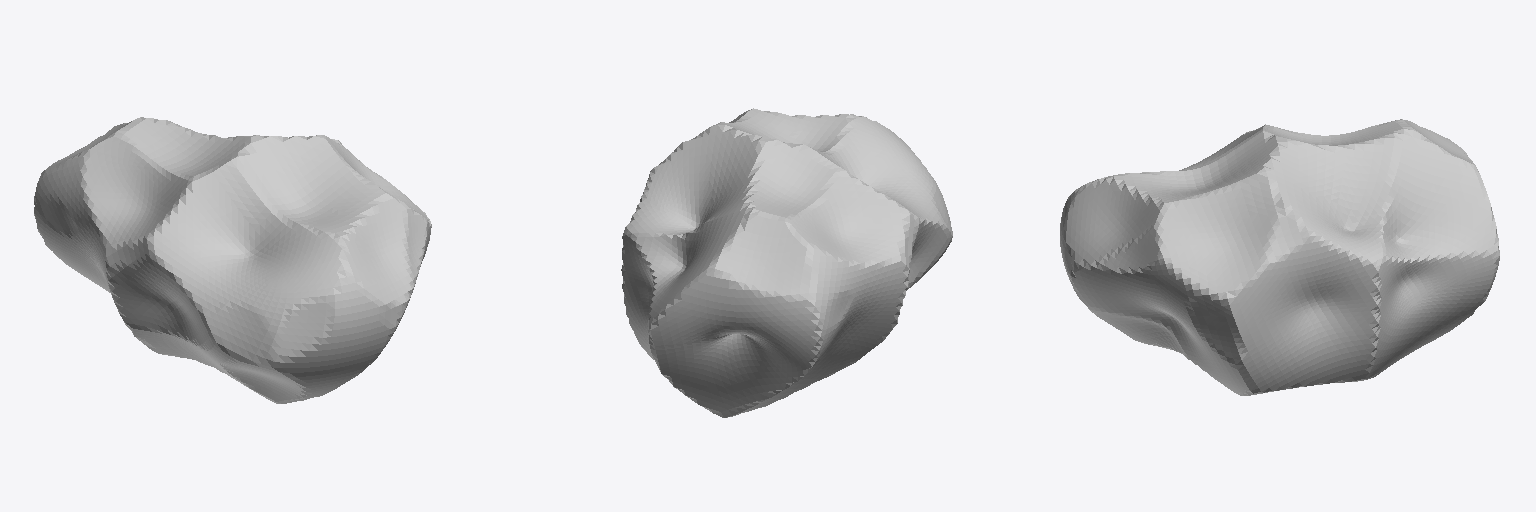
Rendered from stone.obj.
3 renders of one model, left to right at view 1: azimuth 30°, elevation 25°; view 2: azimuth 150°, elevation 25°; view 3: azimuth 270°, elevation 25°, orthographic.
Parts seen in each view (by area): view 1: Cube_Cube.002; view 2: Cube_Cube.002; view 3: Cube_Cube.002.
Part boxes in pixels (x1,y1,x2,y2): Cube_Cube.002: (34,117,431,403); Cube_Cube.002: (621,108,952,417); Cube_Cube.002: (1060,119,1499,395).
Size of the model in its own units: 1.98 by 1.54 by 2.62.